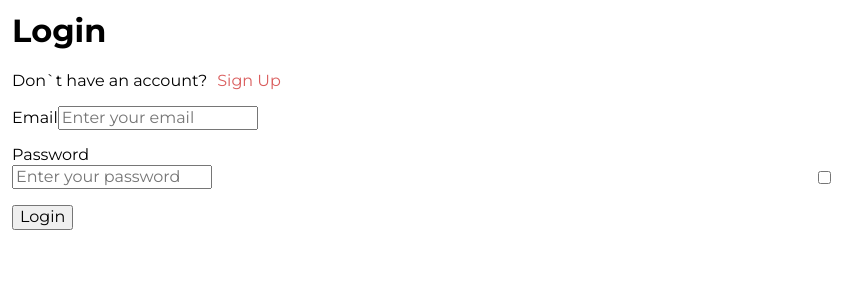
Test: should show error if email is not valid
The image size is (848, 299).
Type "test" into the field with placeholder "Enter your email".
click(158, 118); type("test")  # box [58,106,258,130]
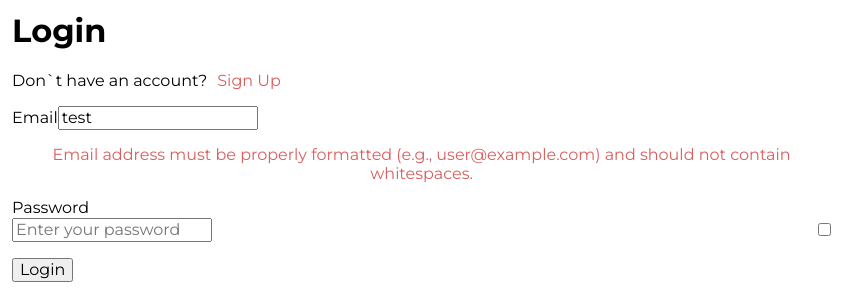
Expected: the text with test id "email_error_message" shows "Email address must be properly formatted (e.g., user@example.com) and should not contain whitespaces.", [52,146,791,183]
